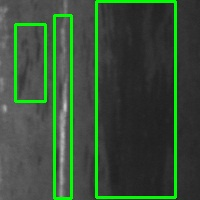inclusion: (96, 1, 175, 197), (15, 24, 45, 101)
scratches: (54, 15, 71, 198)
